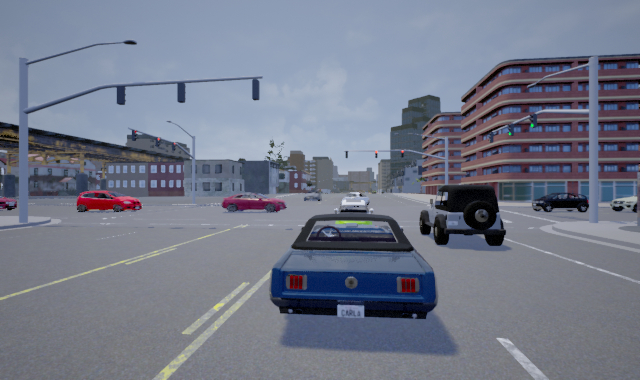traffic_light: (529, 113, 538, 127), (506, 122, 513, 137), (487, 129, 494, 143), (131, 128, 138, 141), (171, 138, 176, 151), (155, 136, 160, 147), (400, 149, 405, 159), (374, 150, 378, 159)
vehicle: (268, 211, 438, 321), (417, 183, 508, 247), (330, 203, 375, 243), (75, 190, 142, 212), (220, 192, 285, 213), (528, 192, 592, 212), (608, 191, 639, 212), (1, 192, 17, 212), (303, 191, 322, 202)
